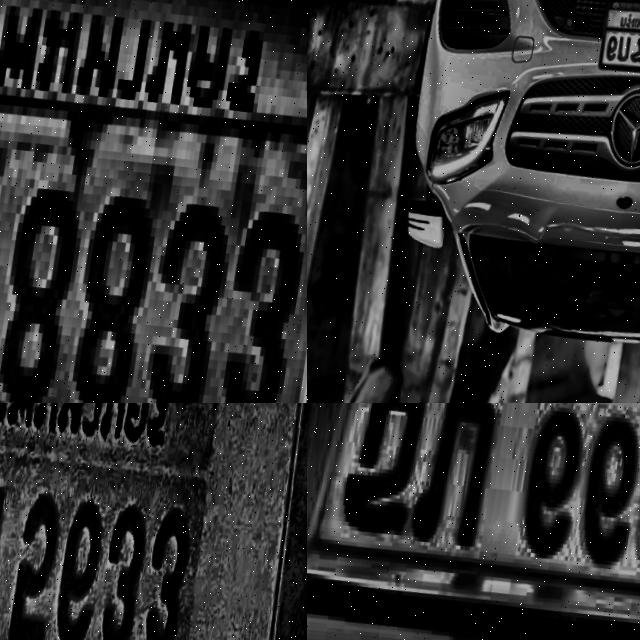license-plate: (0, 0, 307, 403), (307, 403, 640, 640), (0, 403, 307, 640), (598, 4, 640, 85)
